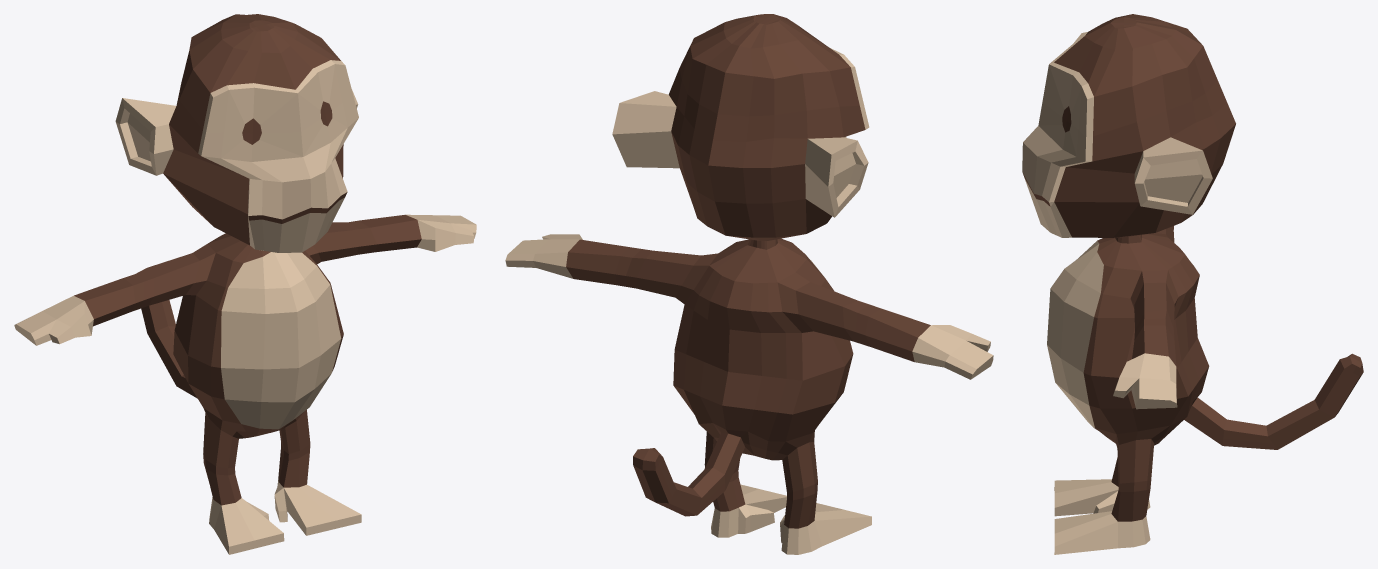
File: Monkey.glb
3 views of the same model, side by side, from view 1: azimuth 30°, elevation 25°; view 2: azimuth 150°, elevation 25°; view 3: azimuth 270°, elevation 25° (orthographic). The views are drawn at different scales.
Visible parts, largest first — view 1: Cube; view 2: Cube; view 3: Cube.
Part boxes in pixels (x1=…): Cube: x1=14, y1=14, x2=476, y2=554; Cube: x1=505, y1=14, x2=993, y2=554; Cube: x1=1022, y1=14, x2=1363, y2=554.
Size of the model in its own units: 1.93 by 2.03 by 1.26.
